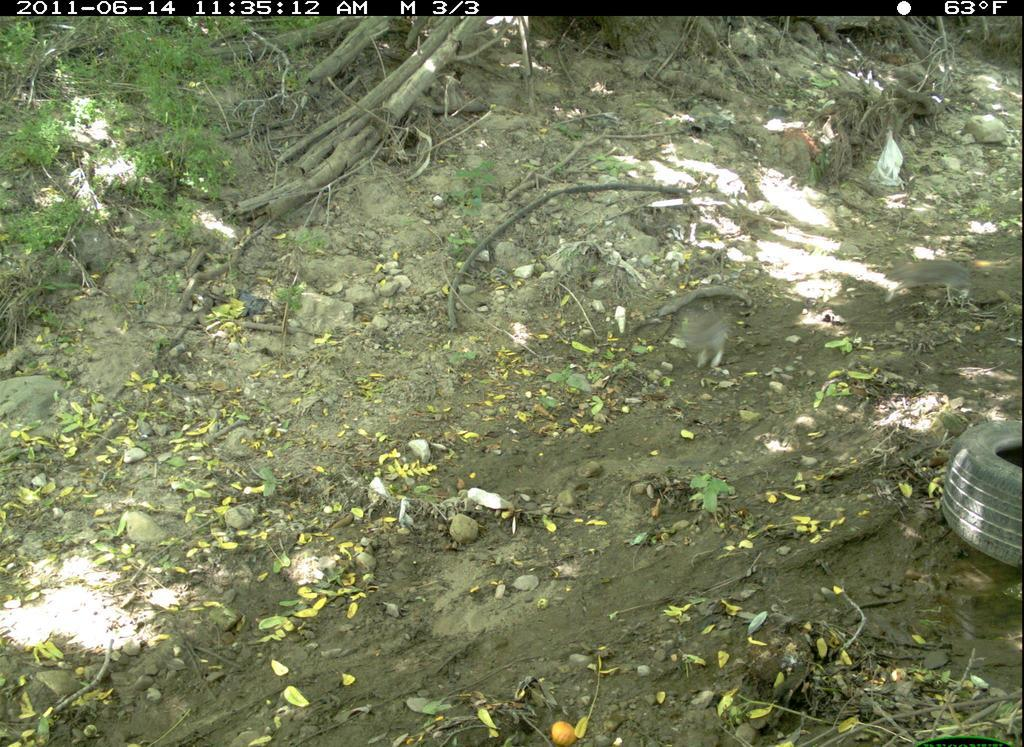rabbit: (654, 284, 776, 377)
